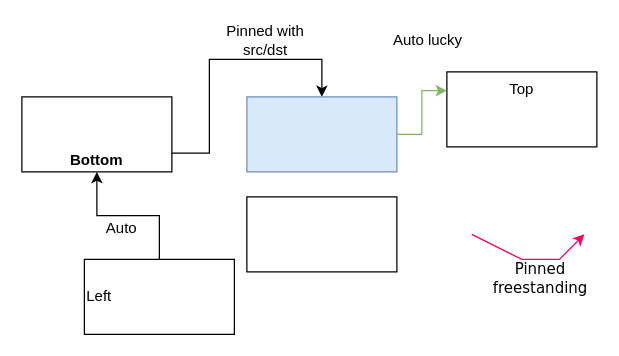
This 619x356 diagram has some shape labels left out. Here are the shapes that lost their labels. From the top down, the centre of each, then its label:
point 321,134: Center
point 321,234: Right
